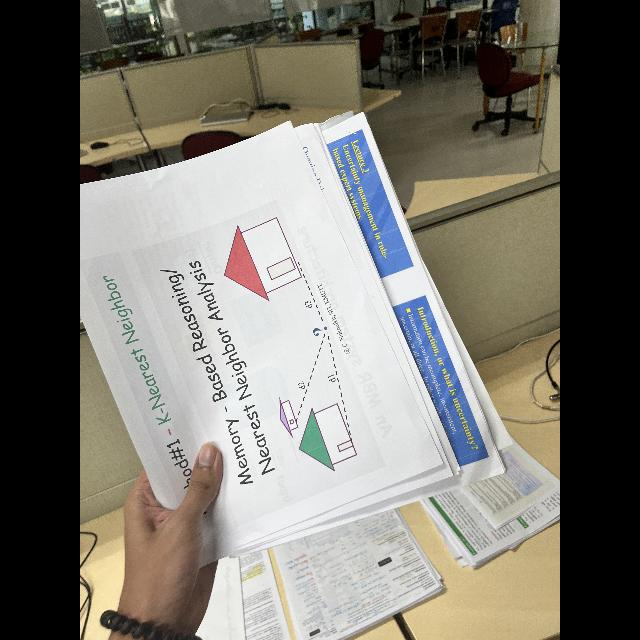reuseable_paper: (80, 106, 522, 566)
